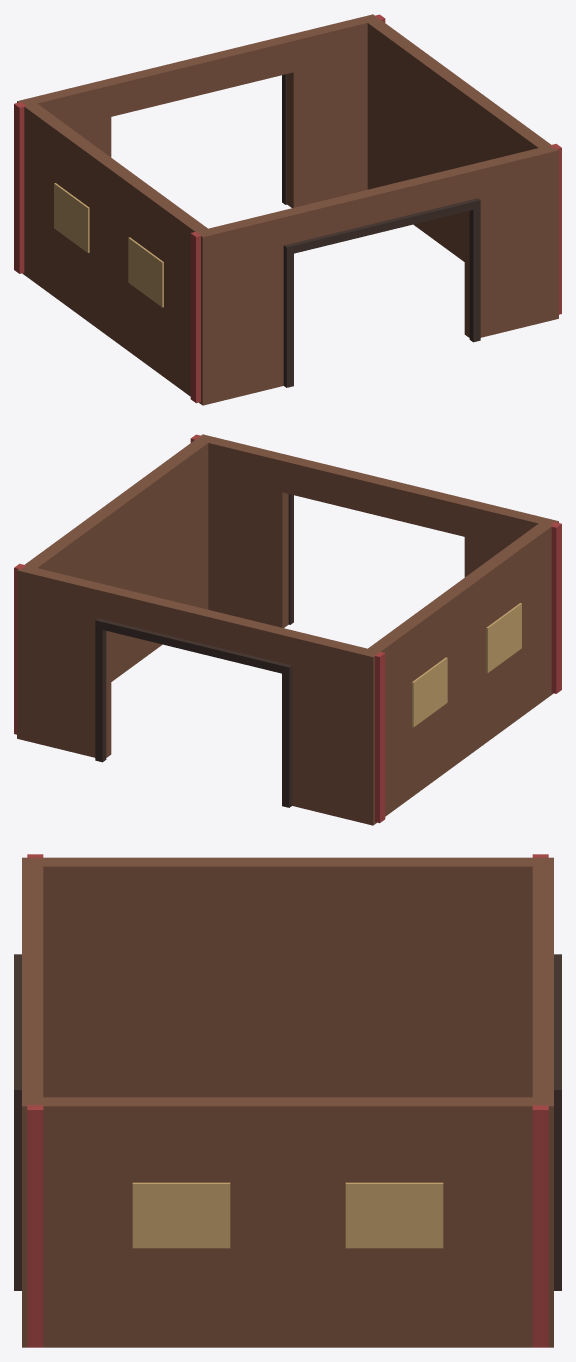
File: Frosty_LodgeGatehouse_Simple.glb
3 views of the same model, one above another, from view 1: azimuth 30°, elevation 25°; view 2: azimuth 150°, elevation 25°; view 3: azimuth 270°, elevation 25° (orthographic). The views are drawn at different scales.
Parts seen in each view (by area): view 1: Frosty_LodgeGatehouse_Simple; view 2: Frosty_LodgeGatehouse_Simple; view 3: Frosty_LodgeGatehouse_Simple.
Part boxes in pixels (x1=…): Frosty_LodgeGatehouse_Simple: x1=14, y1=14, x2=561, y2=405; Frosty_LodgeGatehouse_Simple: x1=14, y1=434, x2=561, y2=825; Frosty_LodgeGatehouse_Simple: x1=14, y1=854, x2=561, y2=1347.
Bounding box in the file's own units: 6.82 × 3 × 6.18.
